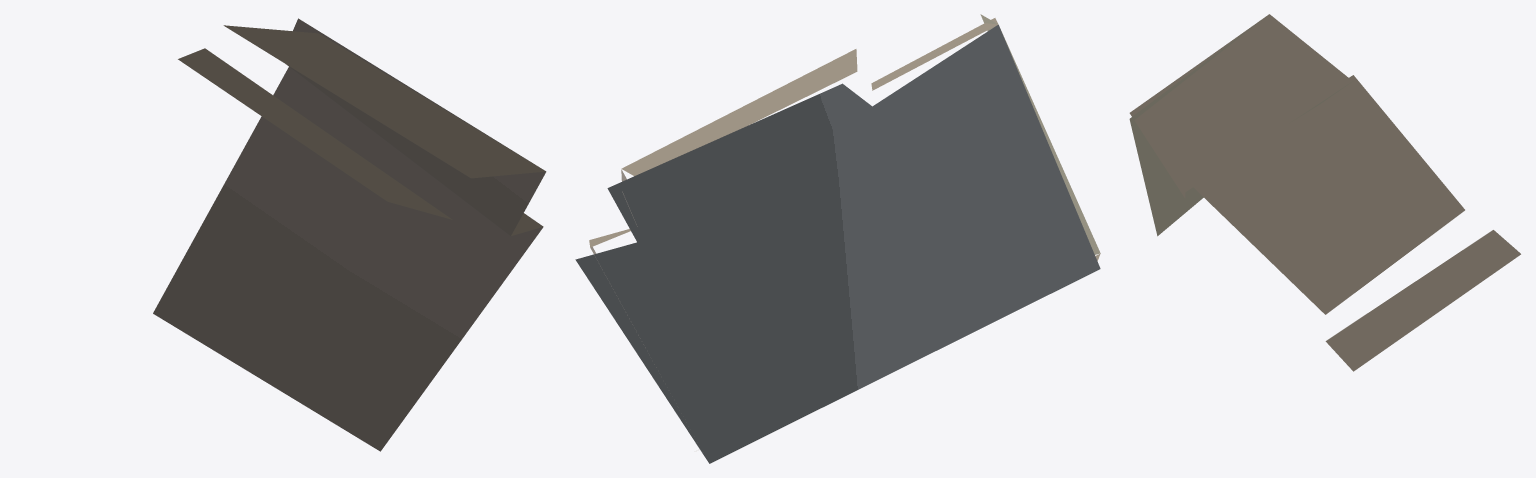
The model's file is tile_LOD3_r5_c6.glb.
3 renders of one model, left to right at view 1: azimuth 30°, elevation 25°; view 2: azimuth 150°, elevation 25°; view 3: azimuth 270°, elevation 25°, orthographic. The views are drawn at different scales.
Bounding box in the file's own units: 8 × 7 × 7.
Materials: 4 (2 with a texture image).
